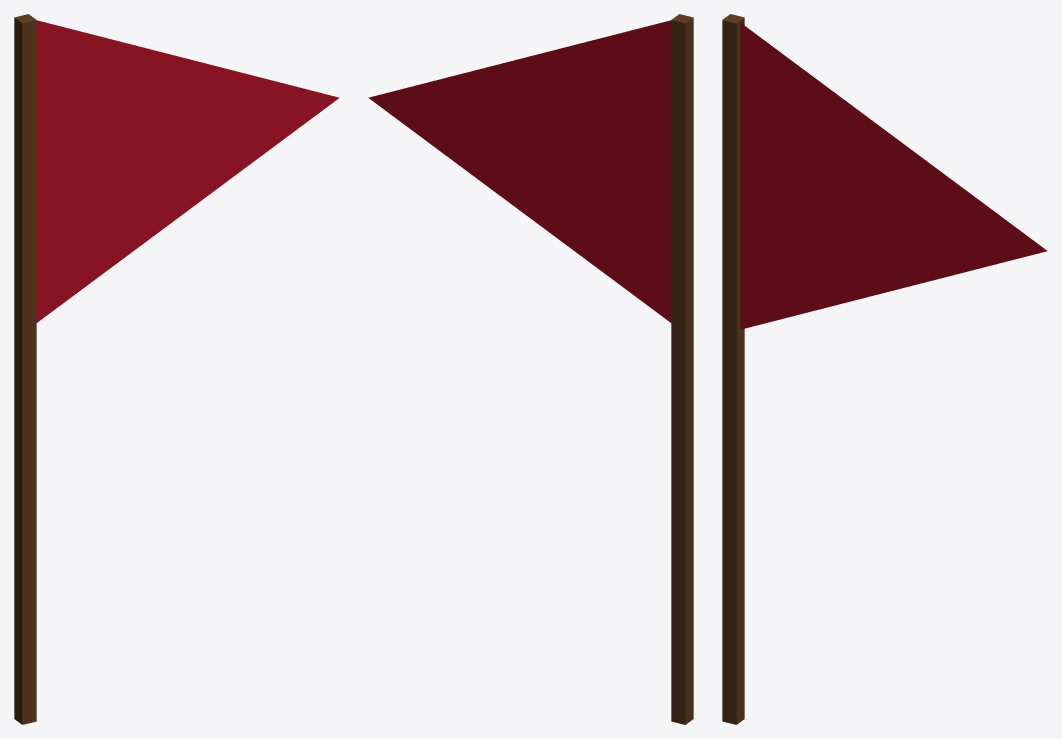
File: SM_Fahne.fbx
3 renders of one model, left to right at view 1: azimuth 30°, elevation 25°; view 2: azimuth 150°, elevation 25°; view 3: azimuth 330°, elevation 25°, orthographic.
Parts seen in each view (by area): view 1: Fahne.001; view 2: Fahne.001; view 3: Fahne.001.
Part boxes in pixels (left/top/right/bottom): Fahne.001: left=14, top=14, right=339, bottom=724; Fahne.001: left=368, top=14, right=693, bottom=724; Fahne.001: left=722, top=14, right=1047, bottom=724.
Size of the model in its own units: 91.88 by 192 by 4.1.
